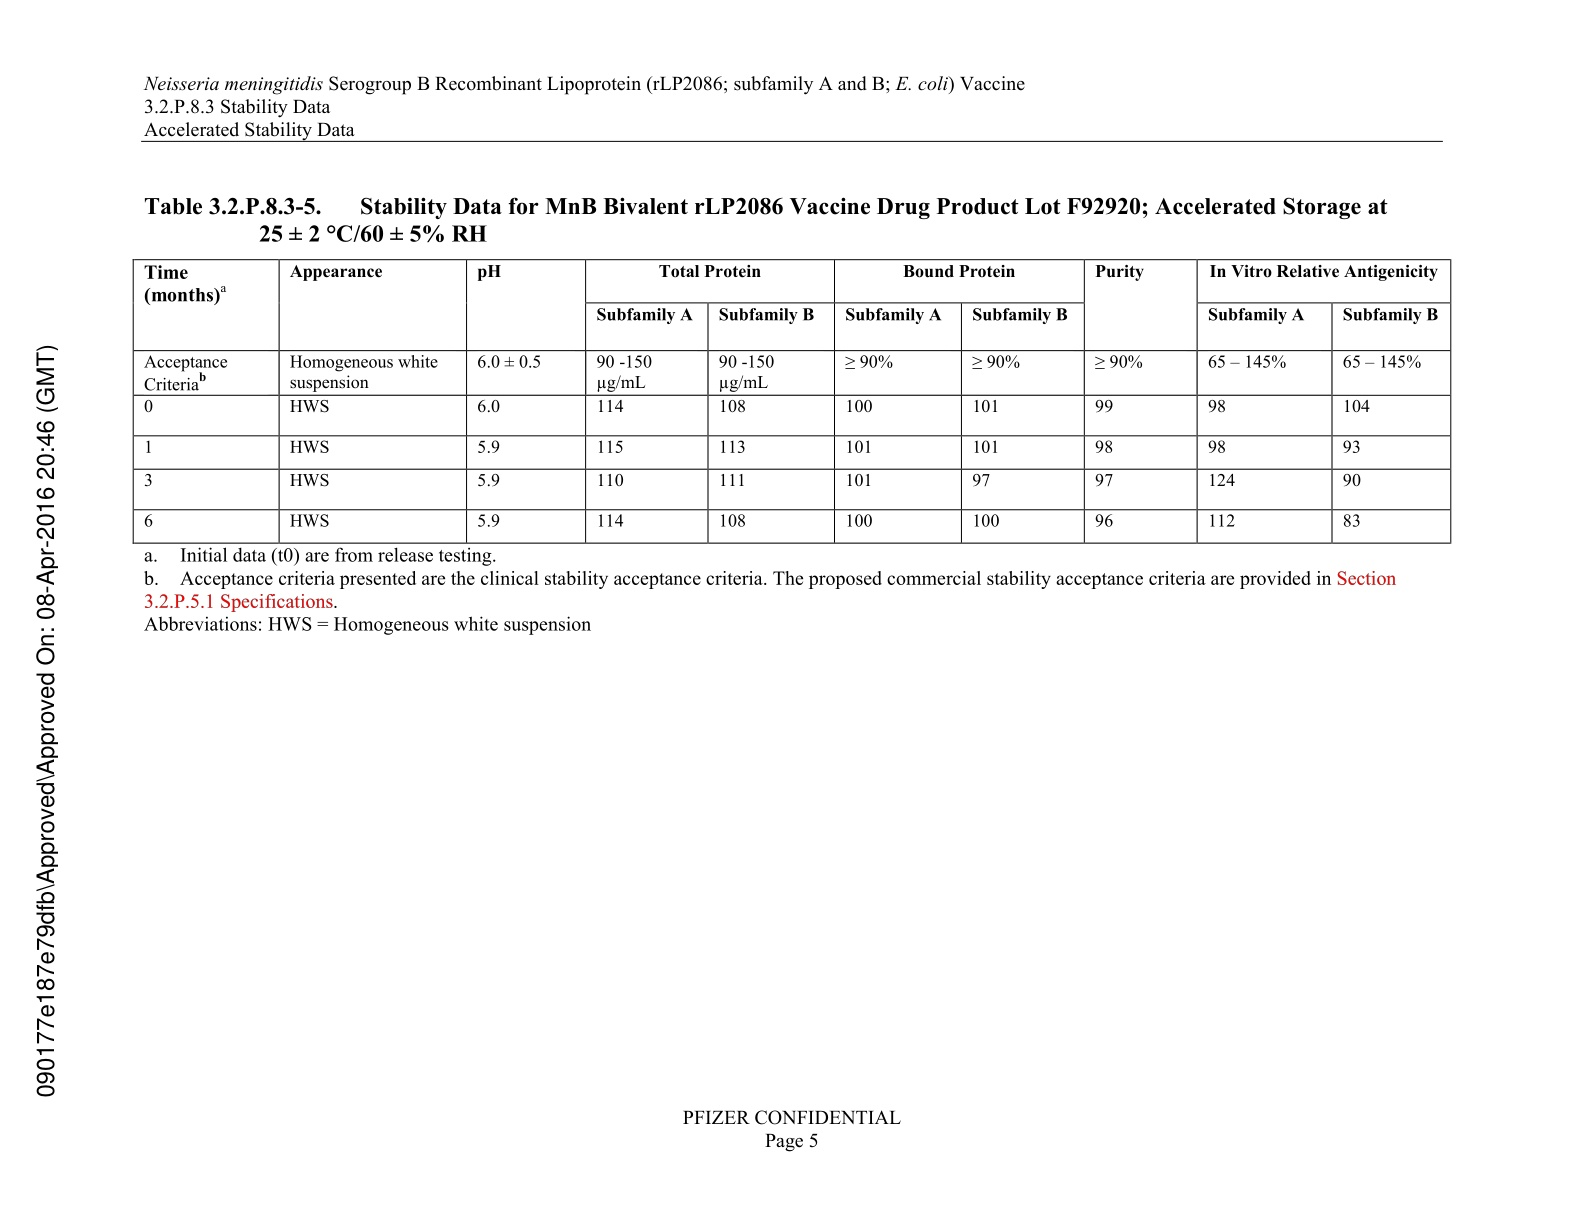merged_cells: (132, 258, 1452, 544)
